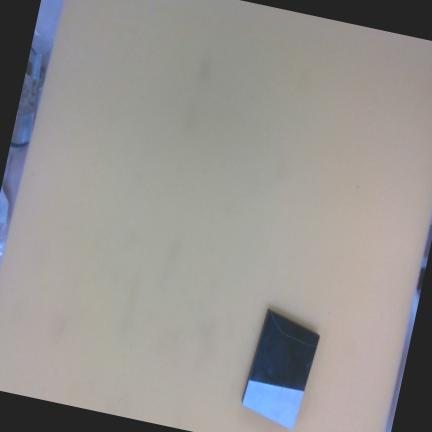tile: (239, 309, 323, 432)
